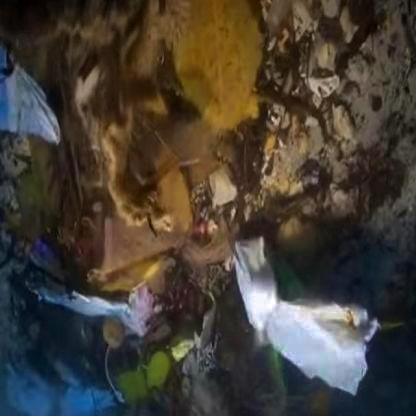plastic: (230, 233, 404, 382), (1, 63, 68, 154)
